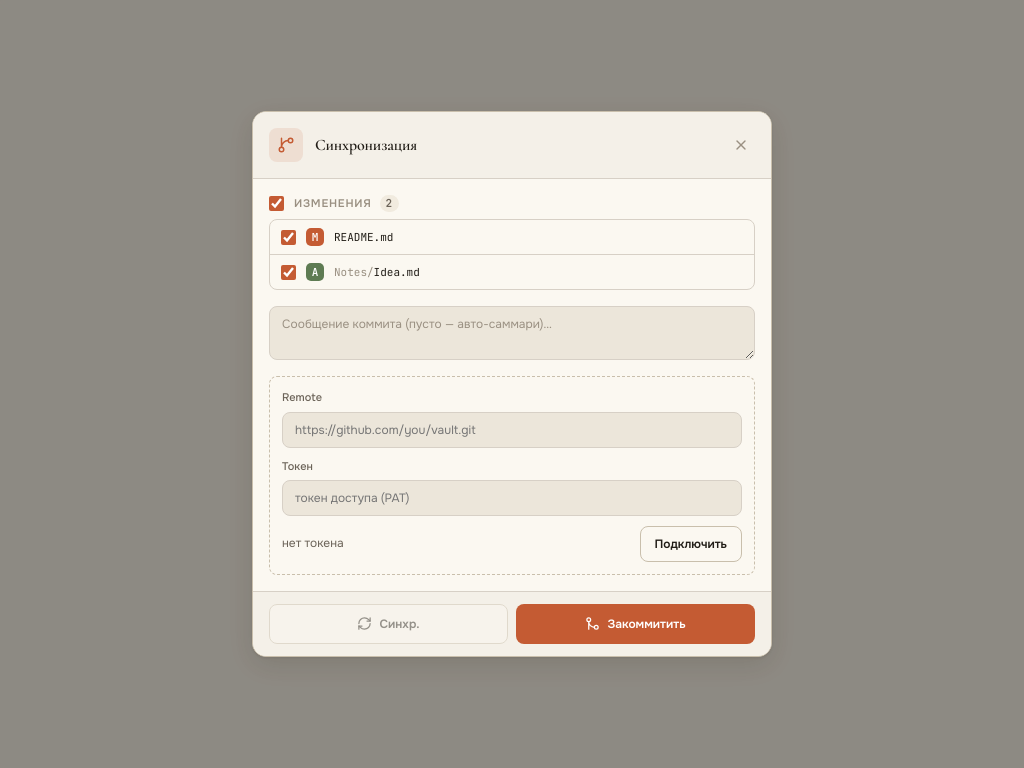
SyncPanel — выборочный коммит (P1-5) › подмножество (снят 1 файл) → commitPaths с выбранными; РЕАЛЬНЫЙ мок оставляет невыбранный dirty
Expected: the button "Закоммитить" is enabled, 516,604 -> 755,644
Expected: the text "README.md" is shown, 334,230 -> 393,244
// снимаем выбор с README.md (его чекбокс — по aria-label)
What coordinates should you click on to do the following:
click the checkbox named "README.md"
I would click on:
 (288, 238)
Its box is 281,230 -> 296,245.
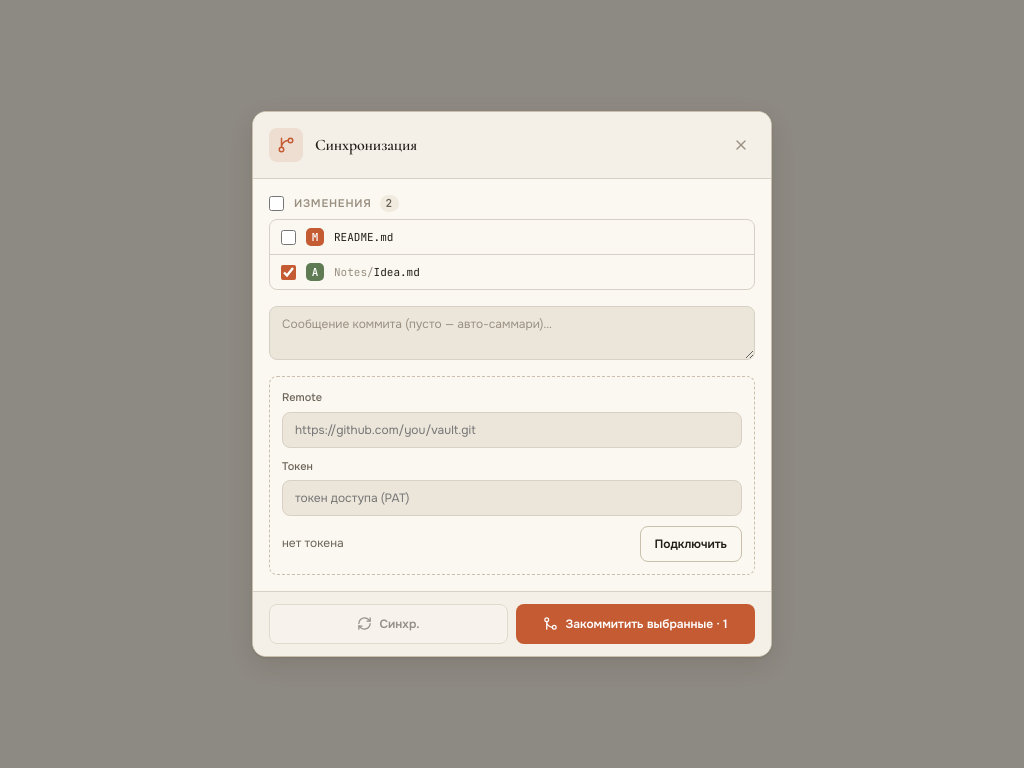
Result: the checkbox named "README.md" is not checked at 281,230 -> 296,245
Result: the button "Закоммитить выбранные · 1" is shown
What coordinates should you click on to do the following:
click the button "Закоммитить выбранные · 1"
I would click on:
 (636, 624)
Its box is 516,604 -> 755,644.
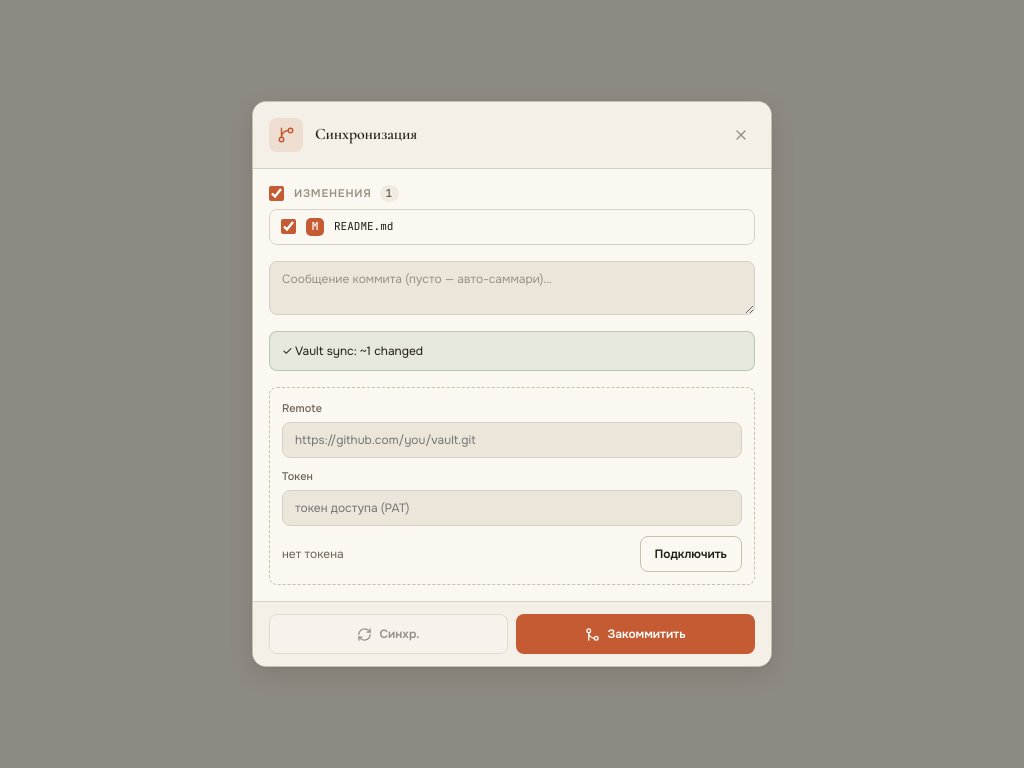
Expected: the text "README.md" is shown, 334,219 -> 393,233
Result: the text "Idea.md" is gone
